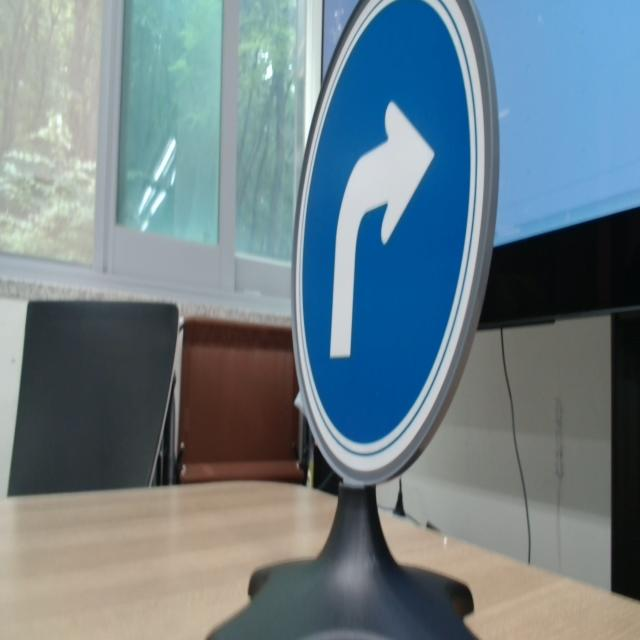right_dierection: (296, 0, 507, 539)
